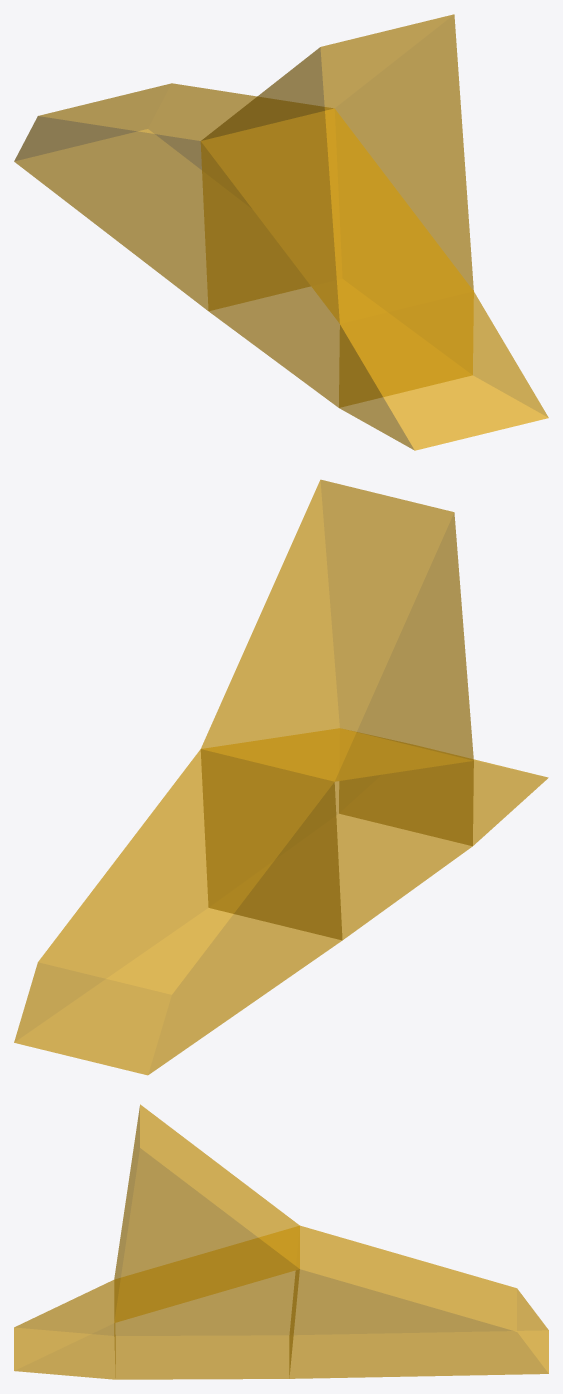
File: SM_Veh_Ship_M_Ram_01_Collision.fbx
3 renders of one model, top to bottom at view 1: azimuth 30°, elevation 25°; view 2: azimuth 150°, elevation 25°; view 3: azimuth 270°, elevation 25°, orthographic. The views are drawn at different scales.
Parts seen in each view (by area): view 1: SM_Veh_Ship_M_Ram_01_Collision; view 2: SM_Veh_Ship_M_Ram_01_Collision; view 3: SM_Veh_Ship_M_Ram_01_Collision.
Boxes of the visible parts, left/top/right/bottom form: SM_Veh_Ship_M_Ram_01_Collision: left=14, top=14, right=548, bottom=450; SM_Veh_Ship_M_Ram_01_Collision: left=14, top=479, right=548, bottom=1075; SM_Veh_Ship_M_Ram_01_Collision: left=14, top=1104, right=548, bottom=1379.
Size of the model in its own units: 131 by 326 by 681.
